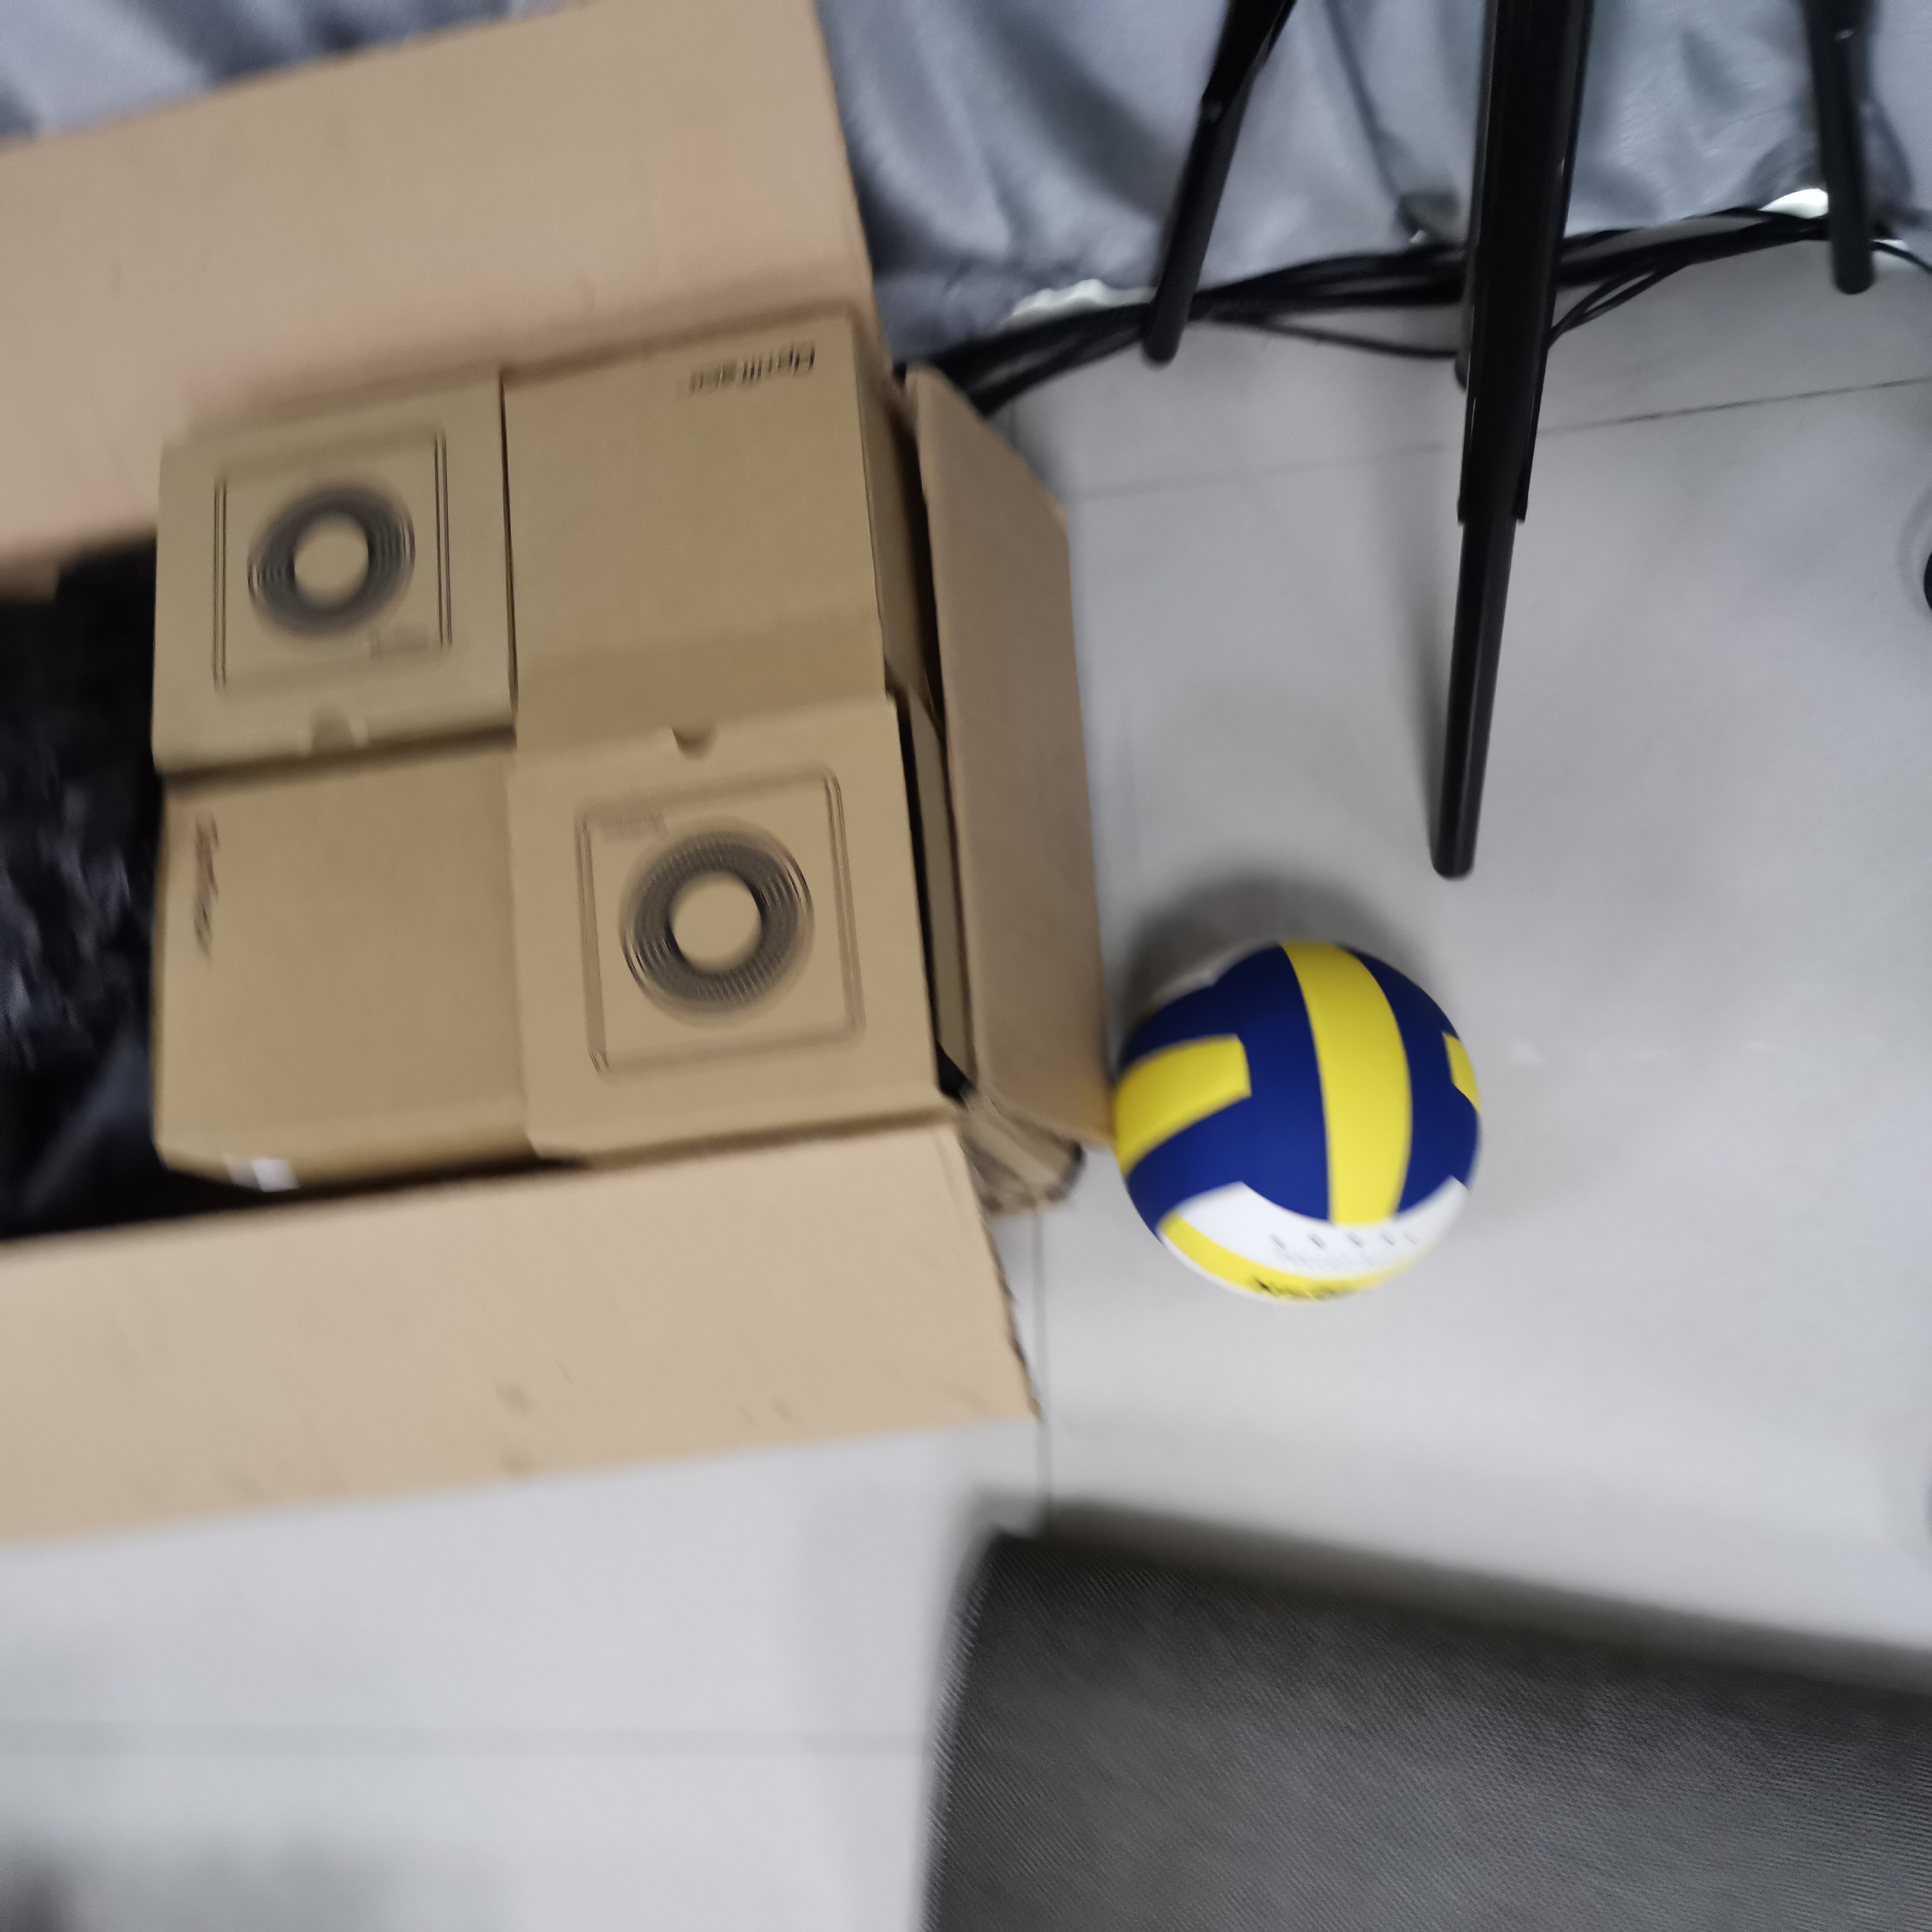volleyball: (1109, 938, 1477, 1309)
